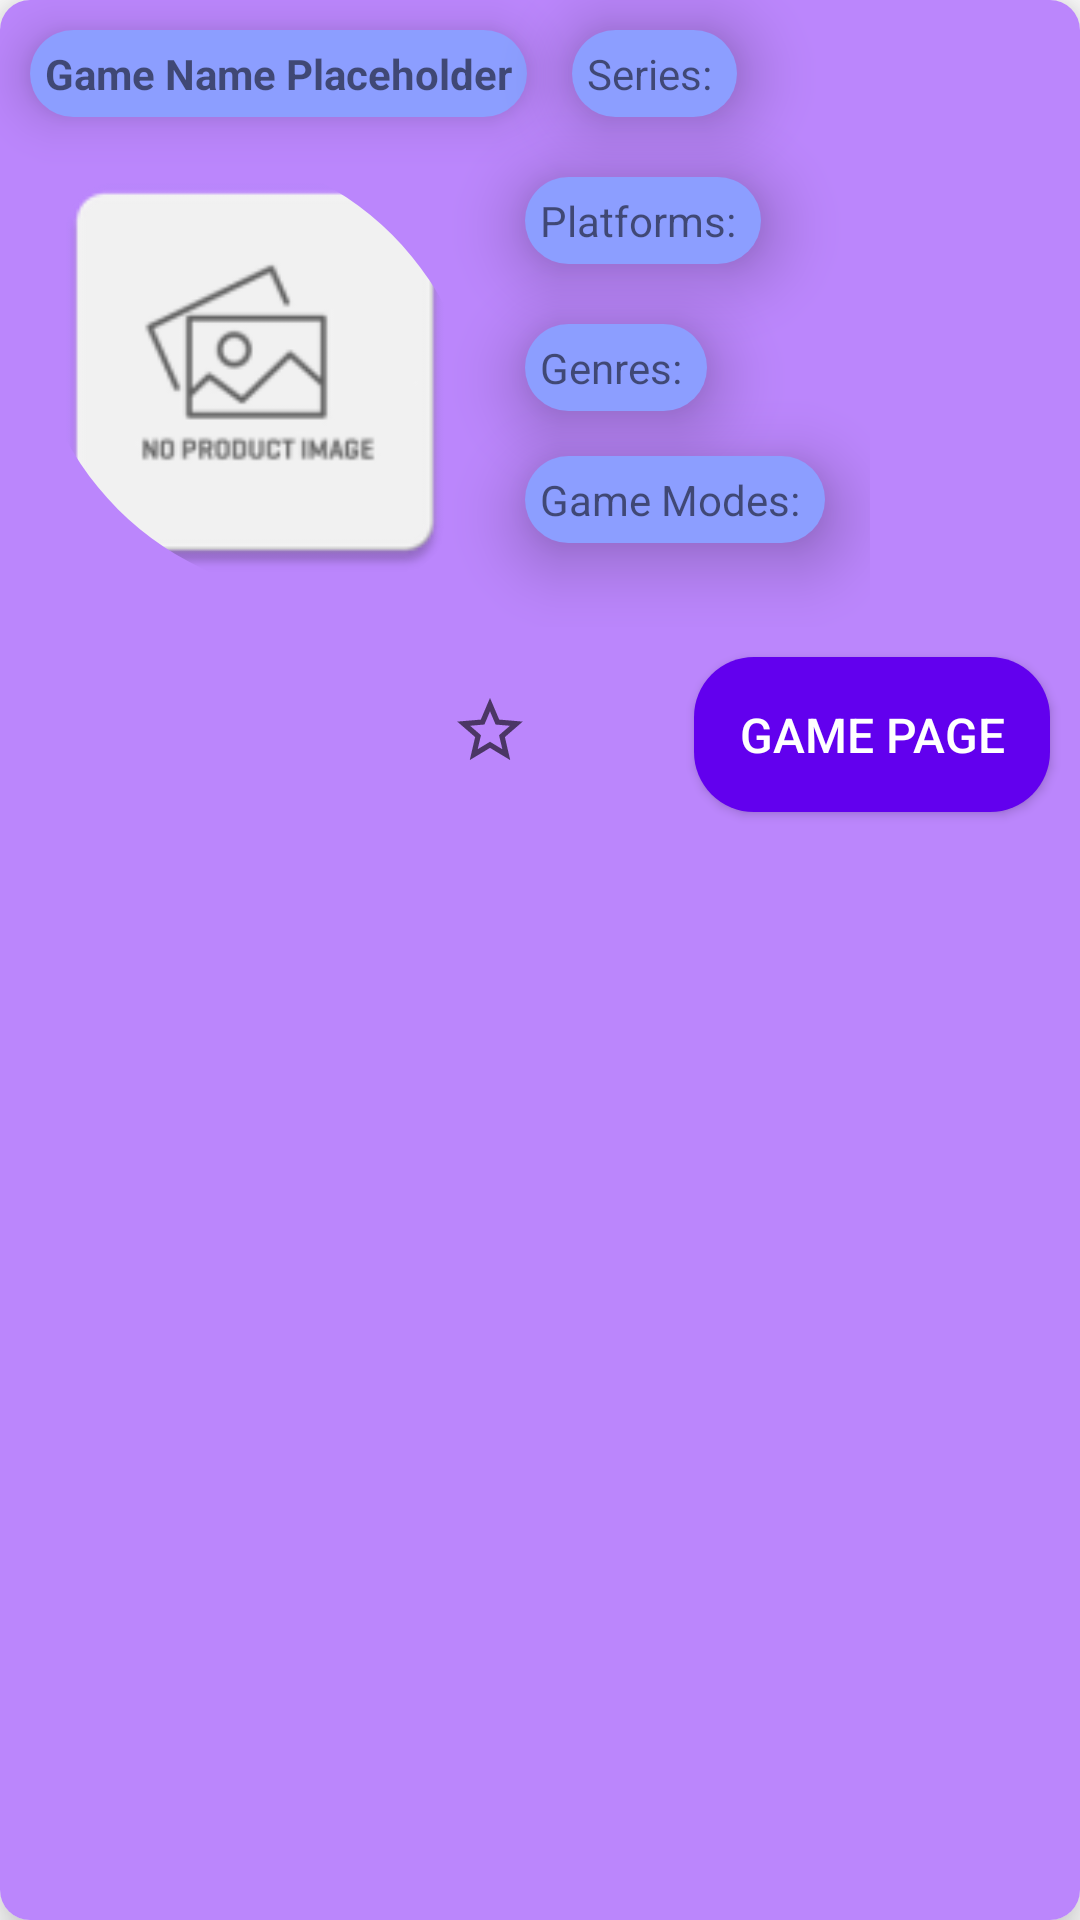

Icon bounding boxes for this 1080 x 1920 phone screenshot, format Rect(x1, y1, x2, y2):
add favorite: Rect(457, 698, 523, 760)
